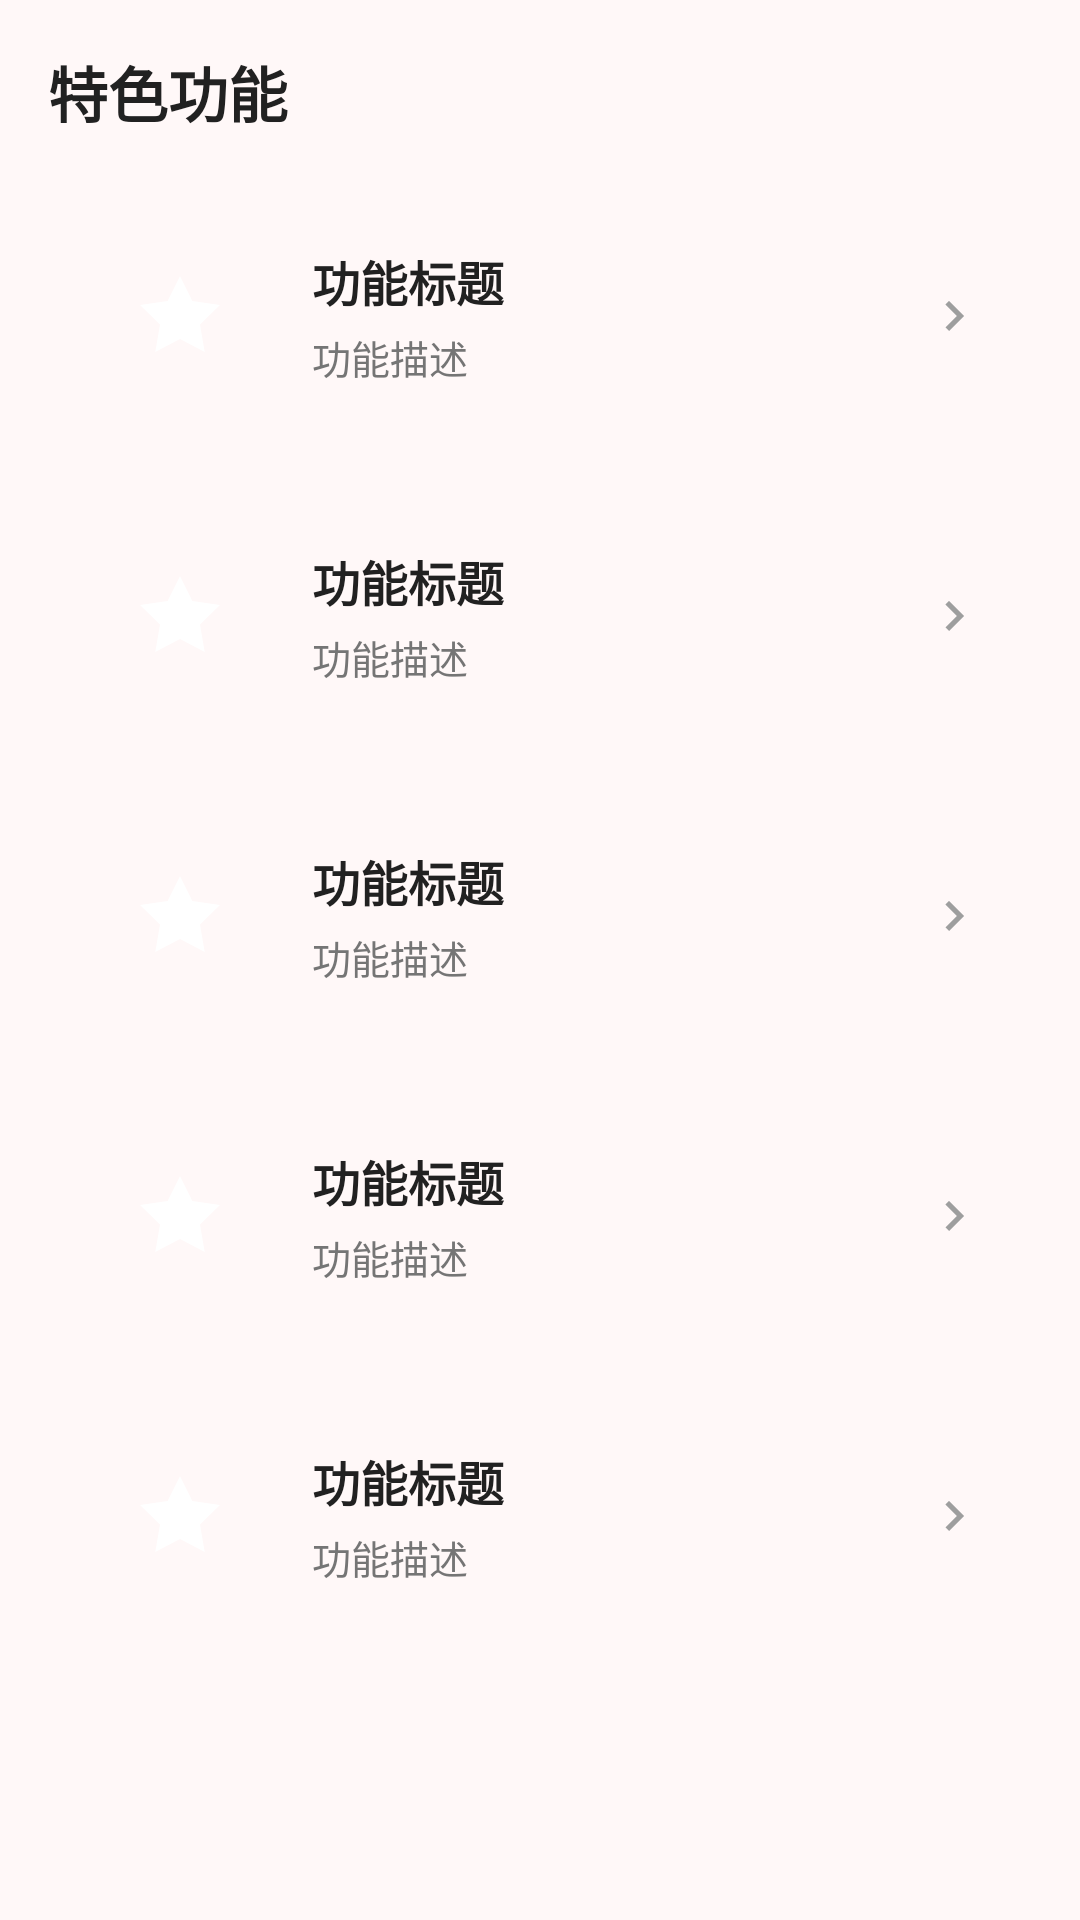

Named icons in this screenshot (1080px×1920px) and their bounding boxes, (x1, y1, x2, y2):
arrow right: (945, 301, 964, 331), (945, 601, 964, 631), (945, 901, 964, 931), (945, 1201, 964, 1231), (945, 1501, 964, 1531)
